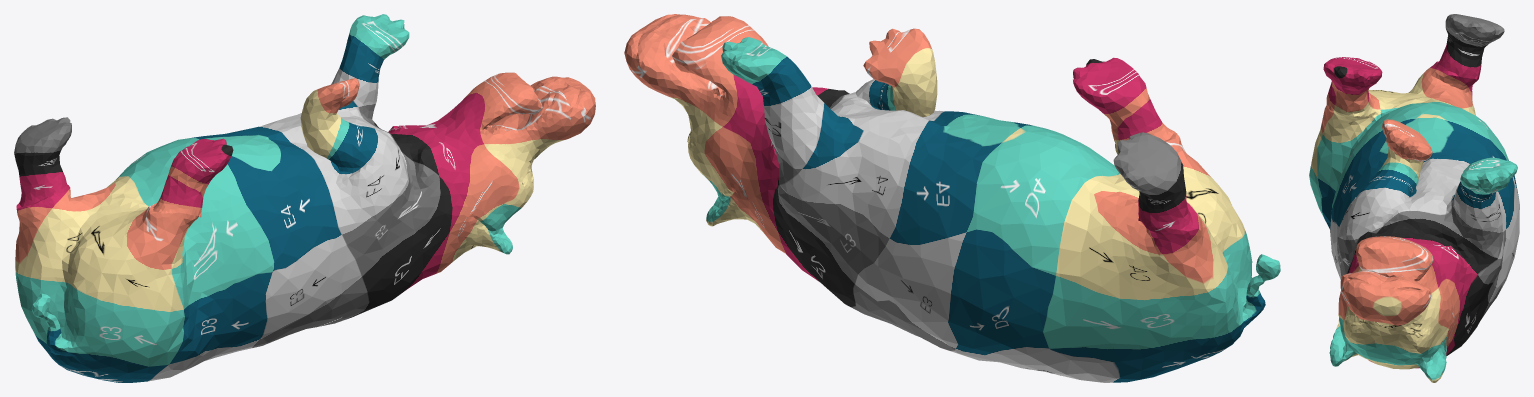
Rendered from horse_02-hippo_04.obj.
The picture shows the model from 3 angles, left to right: view 1: azimuth 30°, elevation 25°; view 2: azimuth 150°, elevation 25°; view 3: azimuth 270°, elevation 25°; orthographic projection. The views are drawn at different scales.
Visible parts, largest first — view 1: horse_02-hippo_04_export; view 2: horse_02-hippo_04_export; view 3: horse_02-hippo_04_export.
Boxes of the visible parts, x1,y1,x2,y2 form: horse_02-hippo_04_export: (14,14,595,382); horse_02-hippo_04_export: (624,14,1280,382); horse_02-hippo_04_export: (1309,14,1519,382).
Bounding box in the file's own units: 0.996 × 0.4291 × 0.3337.
